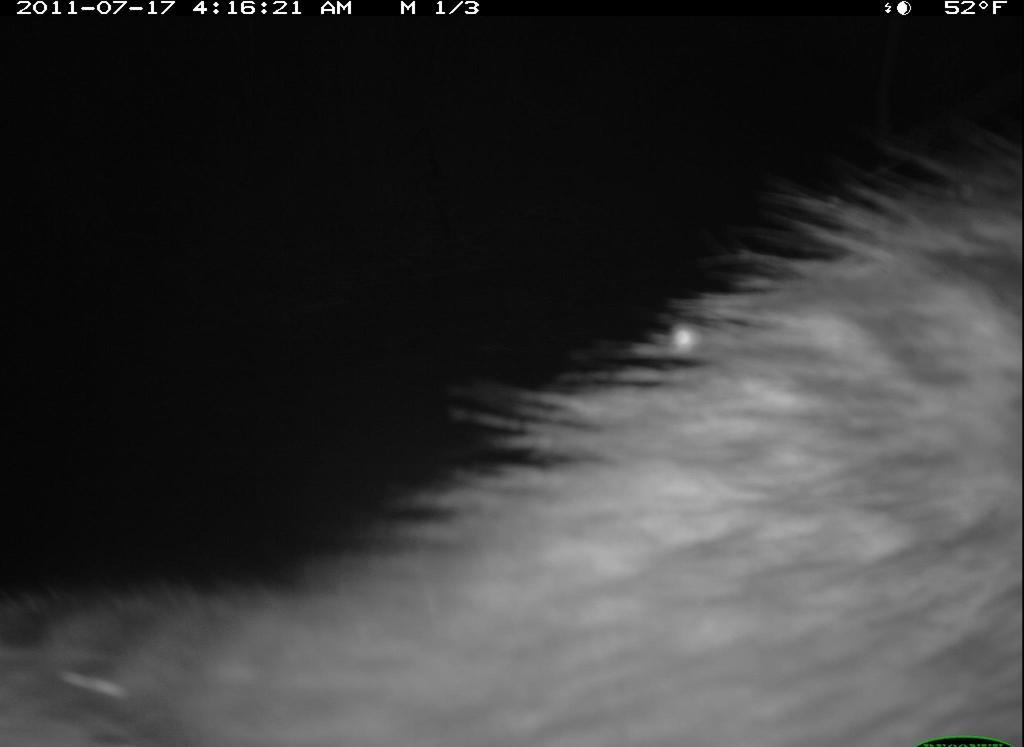raccoon: (3, 127, 1021, 744)
